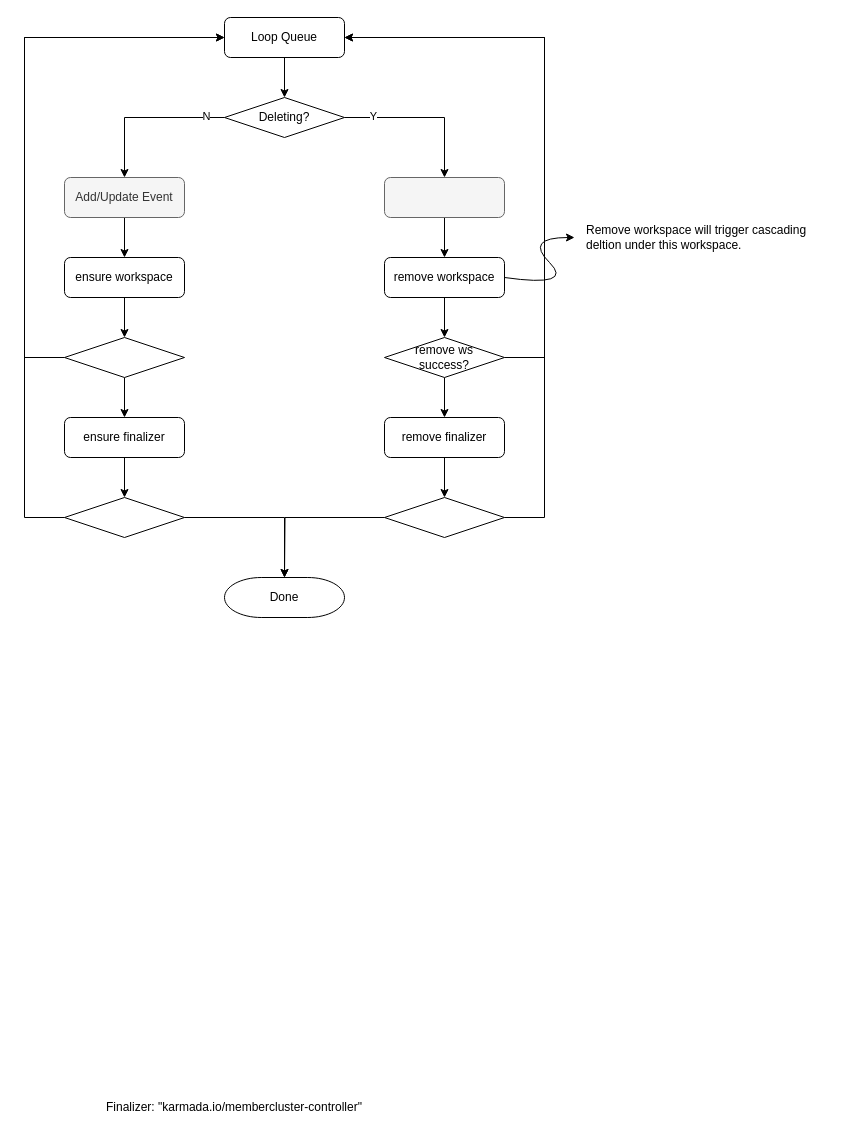
Some shapes in this 842 by 1135 pixel diagram are drawn without their labels. The shapes that lost their labels are listed below. From the top down, each one's box as (x1, y1, x2, y2) in pixels, then its label:
(384, 176, 504, 218): Delete Event
(64, 336, 184, 378): ensure ws success?
(64, 496, 184, 538): ensure finalizer success?
(384, 496, 504, 538): remove finalizer success?
